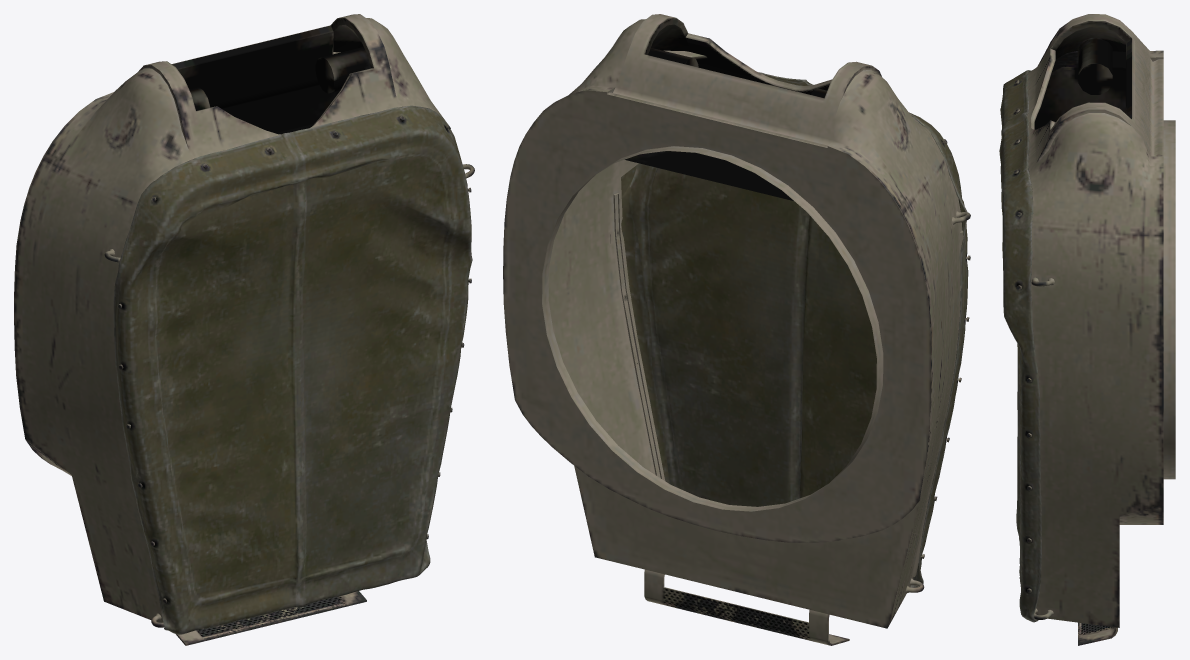
The model's file is Turret_01.glb.
3 renders of one model, left to right at view 1: azimuth 30°, elevation 25°; view 2: azimuth 150°, elevation 25°; view 3: azimuth 270°, elevation 25°, orthographic. The views are drawn at different scales.
Visible parts, largest first — view 1: set_0_group_0; view 2: set_0_group_0; view 3: set_0_group_0.
Part boxes in pixels (x1,y1,x2,y2): set_0_group_0: [14, 14, 474, 645]; set_0_group_0: [503, 14, 970, 645]; set_0_group_0: [999, 14, 1175, 645].
Size of the model in its own units: 1.7 by 2.22 by 0.6551.
1 material, 1 textured.
